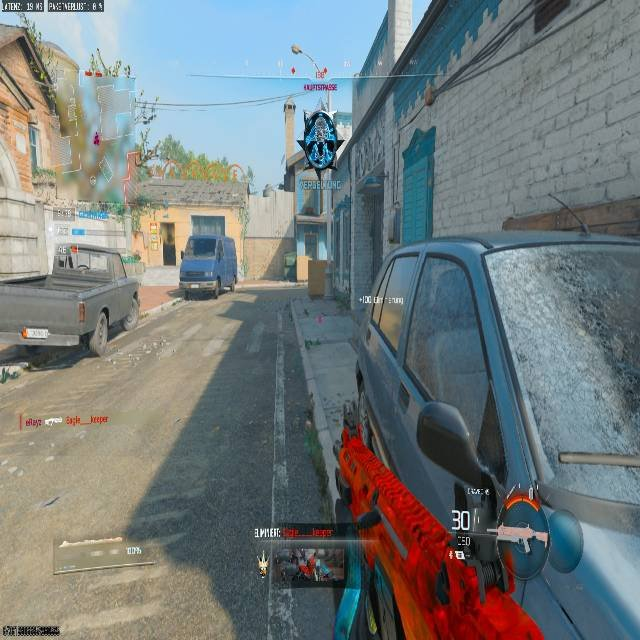player: (301, 108, 340, 175)
